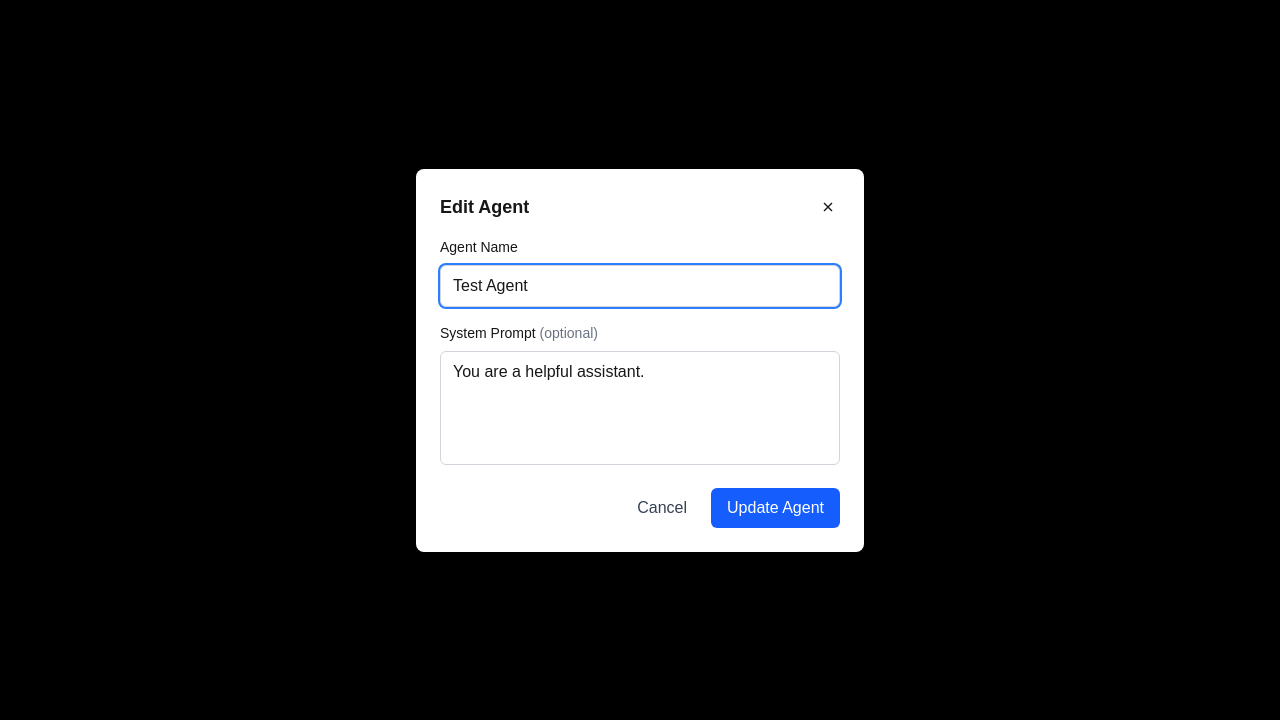
Test: EditAgentModal › Form Reset › resets form to original values when close button is clicked
# Modify values
Replace the text in the field labelled "Agent Name" with "Modified Name" at (640, 286), box left=440, top=264, right=840, bottom=306
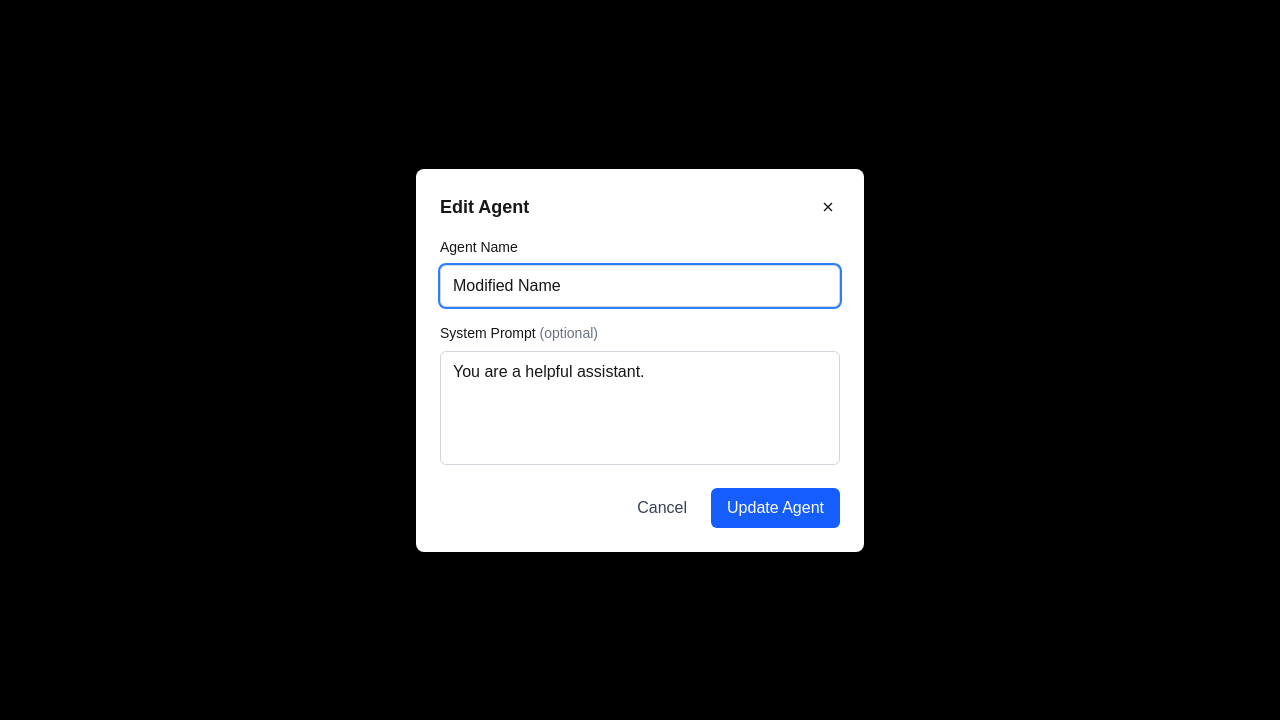
Replace the text in the text box labelled "System Prompt (optional)" with "Modified prompt" at (640, 408), box left=440, top=350, right=840, bottom=464
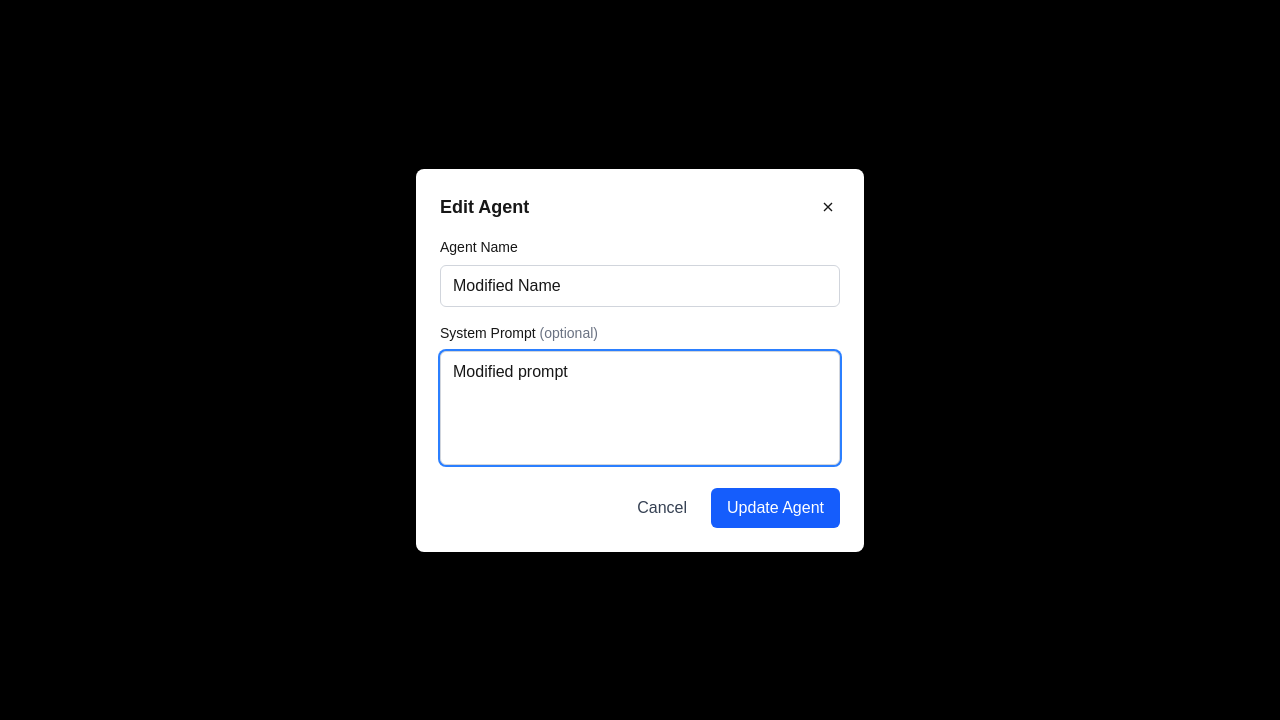
# Close should reset
Click the button named "Close modal".
click(828, 206)  # box left=816, top=194, right=840, bottom=218
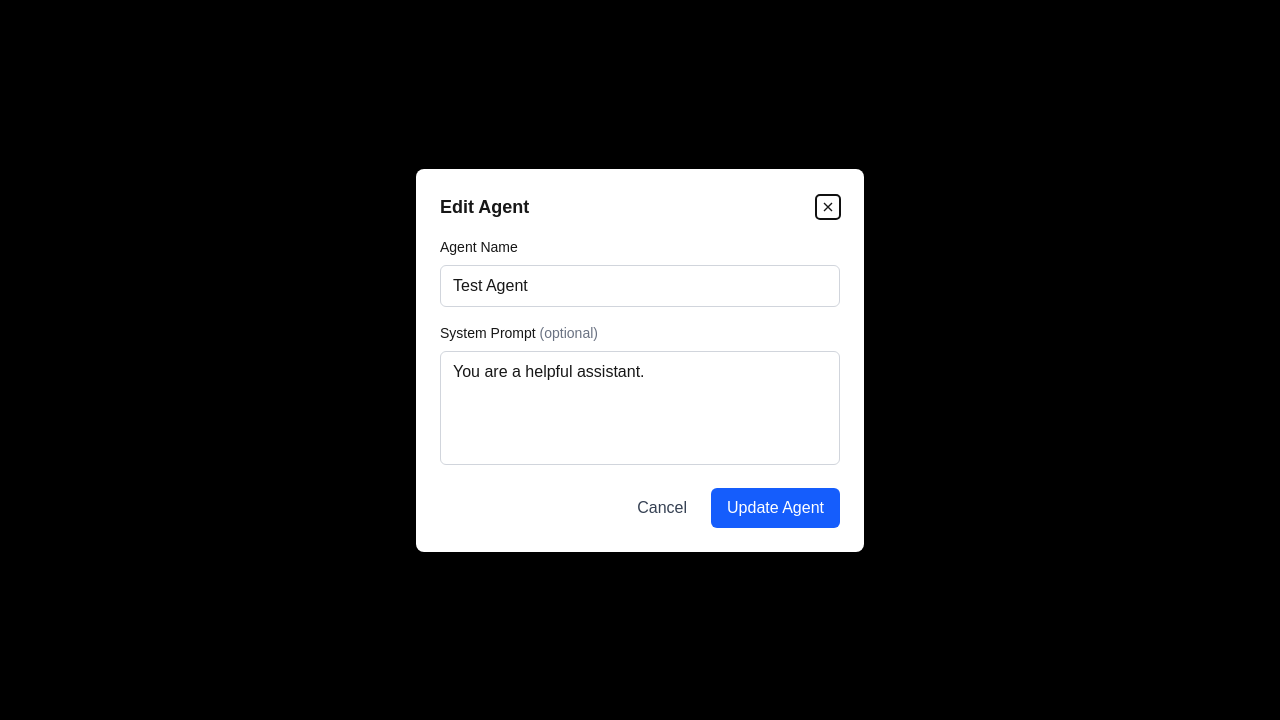
Check: the field labelled "Agent Name" holds "Test Agent", box left=440, top=264, right=840, bottom=306
Check: the text box labelled "System Prompt (optional)" holds "You are a helpful assistant.", box left=440, top=350, right=840, bottom=464
